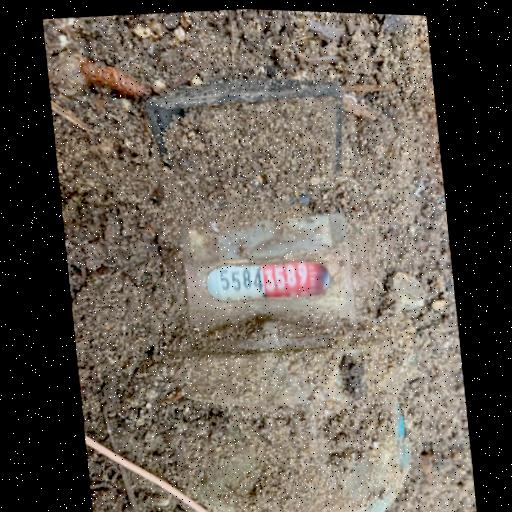3: (262, 264, 277, 298)
4: (251, 264, 266, 299)
5: (216, 265, 233, 301), (273, 263, 288, 299), (230, 265, 245, 300)
8: (285, 262, 300, 297), (241, 263, 254, 299)
9: (295, 260, 311, 297)
border_water_meter_number: (204, 252, 335, 308)
